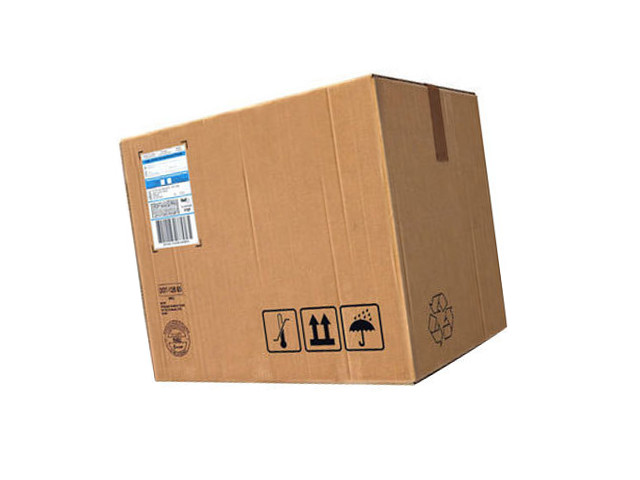cardboard: (121, 72, 505, 387)
